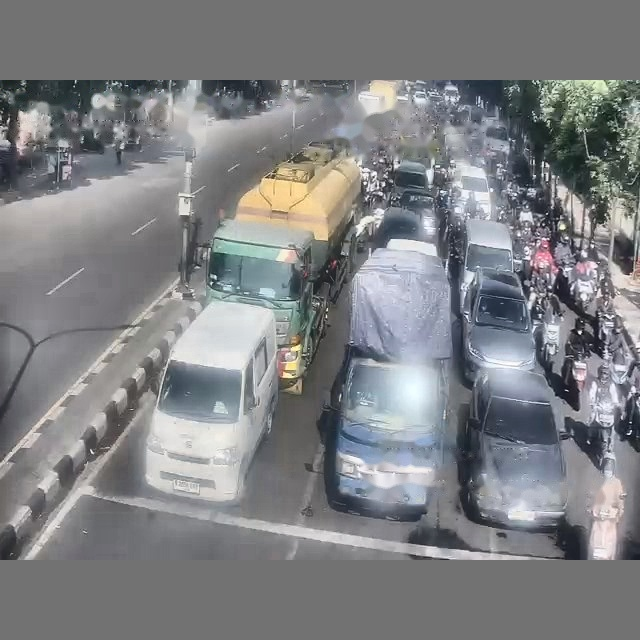Mobil: (460, 369, 569, 528), (462, 268, 535, 381), (372, 206, 426, 248), (397, 189, 438, 241), (484, 125, 509, 153), (413, 91, 428, 107)
Motor: (591, 394, 615, 467), (587, 507, 620, 559), (568, 349, 587, 410), (573, 278, 595, 314)
Truk: (206, 141, 360, 394), (319, 248, 452, 518)
